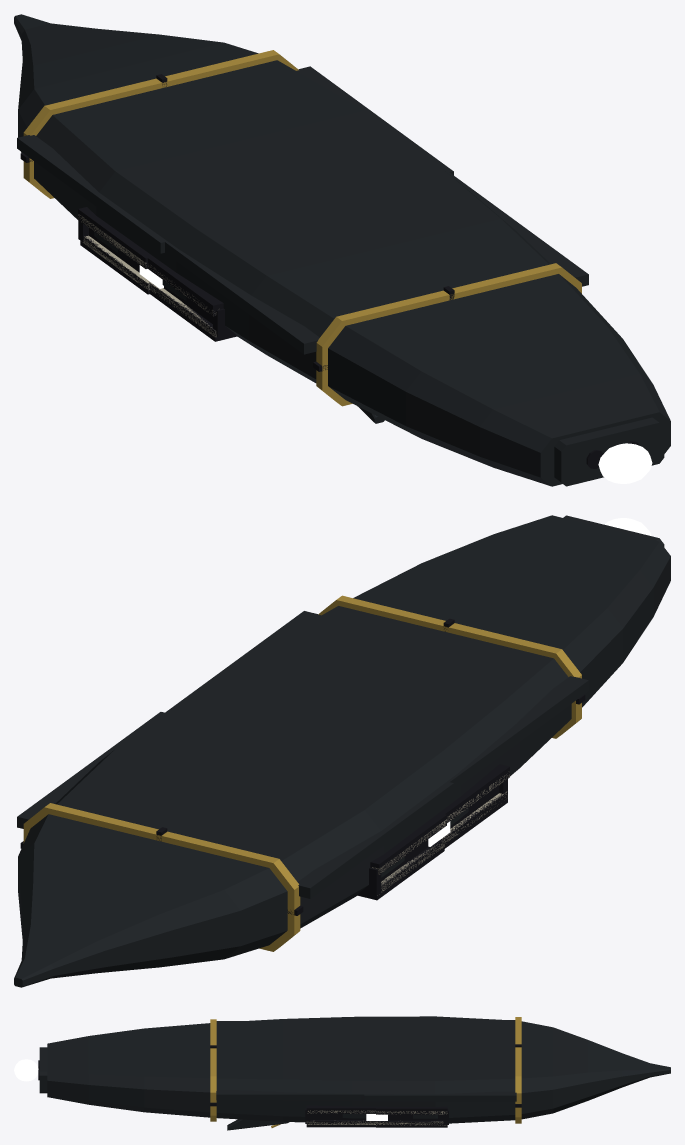
3 renders of one model, top to bottom at view 1: azimuth 30°, elevation 25°; view 2: azimuth 150°, elevation 25°; view 3: azimuth 270°, elevation 25°, orthographic. The views are drawn at different scales.
Parts seen in each view (by area): view 1: RIMWARD_HULL, RIMWARD_ENGINE_GLOW; view 2: RIMWARD_HULL; view 3: RIMWARD_HULL, RIMWARD_ENGINE_GLOW.
Part boxes in pixels (<box>): RIMWARD_HULL: <box>14,14,670,486</box>; RIMWARD_ENGINE_GLOW: <box>598,443,652,483</box>; RIMWARD_HULL: <box>14,515,670,987</box>; RIMWARD_HULL: <box>38,1016,670,1130</box>; RIMWARD_ENGINE_GLOW: <box>14,1059,38,1081</box>.
Bounding box in the file's own units: 2.93 × 1.22 × 10.43.
